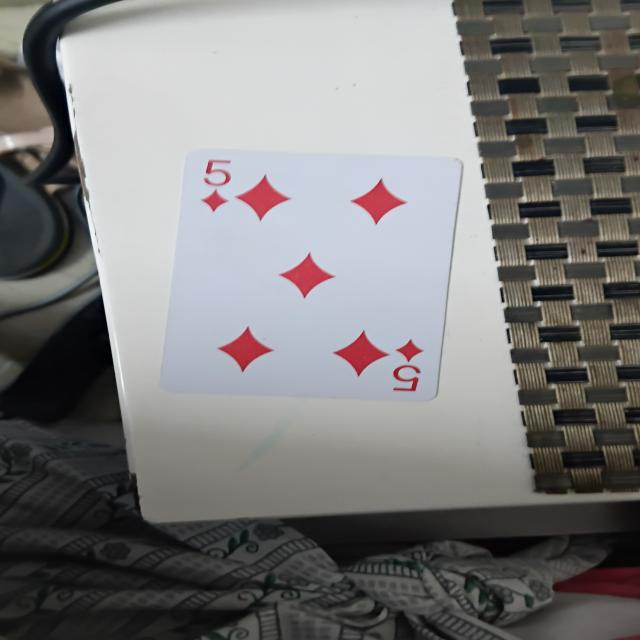5D: (156, 143, 456, 408)
